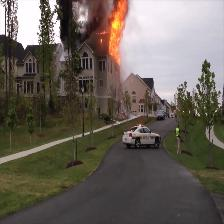fire: (108, 1, 125, 58)
smoke: (58, 0, 103, 35)
